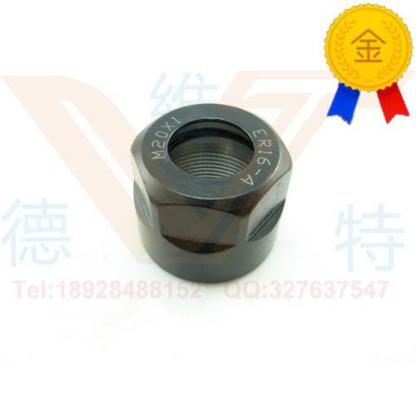FOD: (127, 102, 294, 288)
